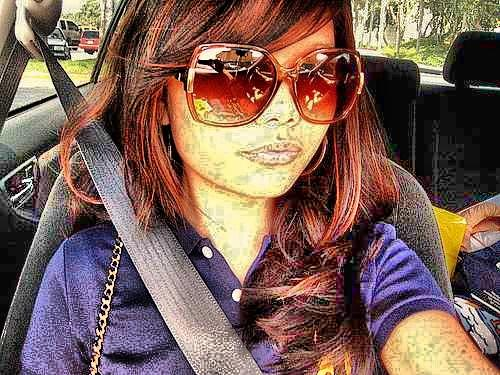seatbelt: (26, 36, 268, 375)
